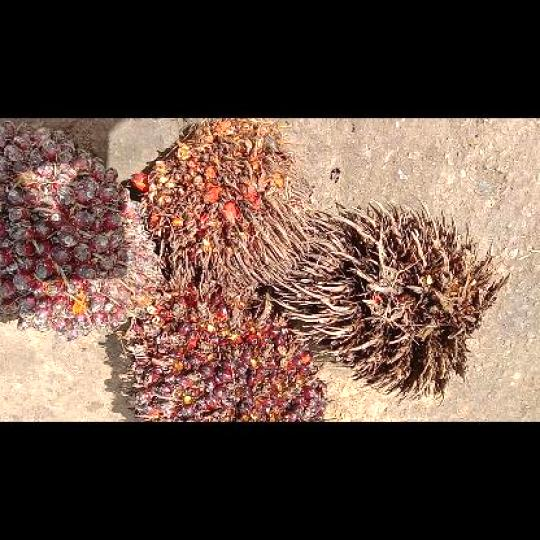kurang masak: (0, 119, 164, 341)
masak: (120, 276, 337, 420)
terlalu masak: (131, 119, 316, 298)
